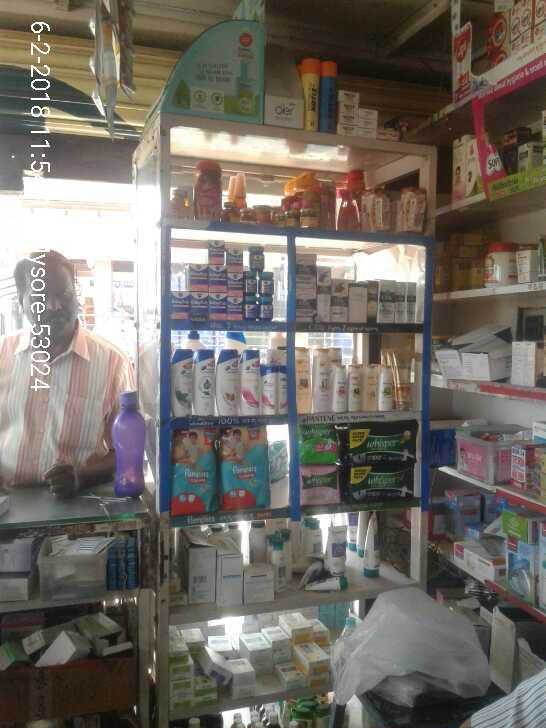beauty: (291, 256, 319, 330), (188, 346, 217, 417), (310, 348, 341, 413), (218, 347, 243, 417), (294, 345, 317, 415), (393, 338, 415, 410), (240, 351, 264, 413), (170, 352, 193, 416), (342, 360, 364, 413), (258, 360, 277, 414), (398, 277, 419, 321), (327, 274, 348, 317), (377, 275, 396, 321), (315, 264, 328, 329), (375, 367, 392, 411)
pharmacy: (168, 423, 217, 517), (217, 423, 271, 507), (343, 462, 418, 501), (339, 425, 415, 463), (299, 464, 339, 504), (301, 425, 339, 462), (187, 264, 209, 294), (247, 243, 268, 273), (189, 291, 209, 322), (208, 264, 230, 292), (171, 290, 190, 321), (202, 239, 223, 266), (221, 246, 243, 271), (241, 289, 257, 320), (210, 291, 227, 320), (227, 294, 244, 320), (259, 272, 275, 299), (223, 265, 239, 291), (259, 293, 273, 319), (245, 273, 256, 292)
